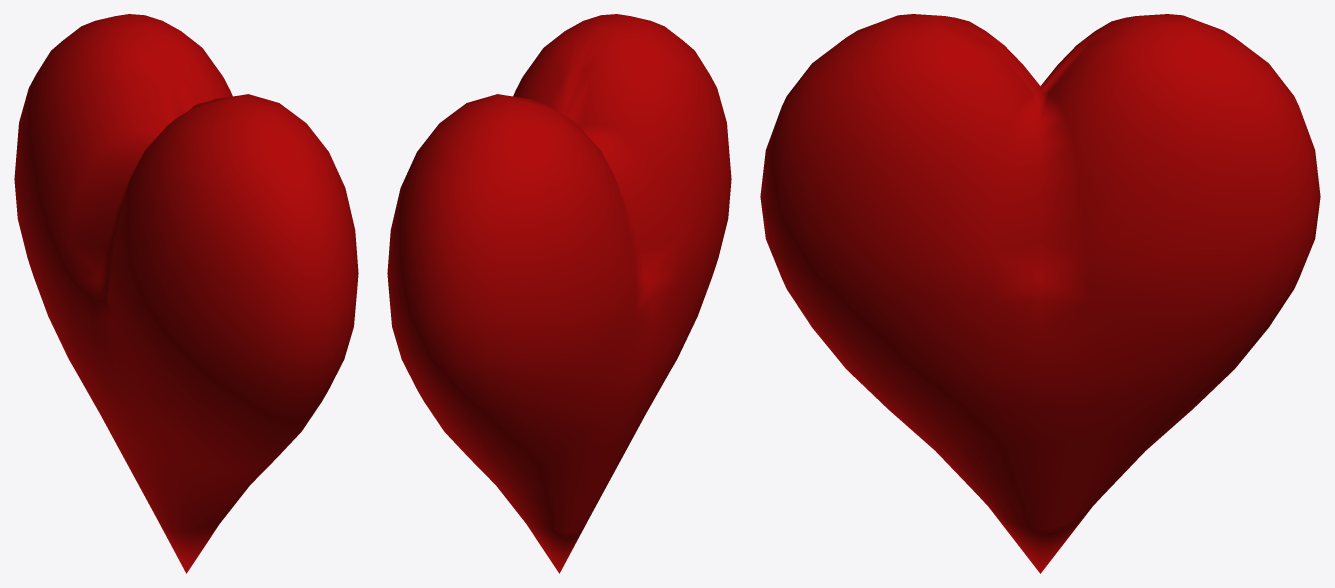
File: heart.fbx
The picture shows the model from 3 angles, left to right: view 1: azimuth 30°, elevation 25°; view 2: azimuth 150°, elevation 25°; view 3: azimuth 270°, elevation 25°; orthographic projection. The views are drawn at different scales.
Parts seen in each view (by area): view 1: Heart; view 2: Heart; view 3: Heart.
Part boxes in pixels (x1=…): Heart: x1=14, y1=14, x2=358, y2=573; Heart: x1=387, y1=14, x2=731, y2=573; Heart: x1=760, y1=14, x2=1320, y2=573.
Bounding box in the file's own units: 0.7182 × 1.73 × 1.59.
